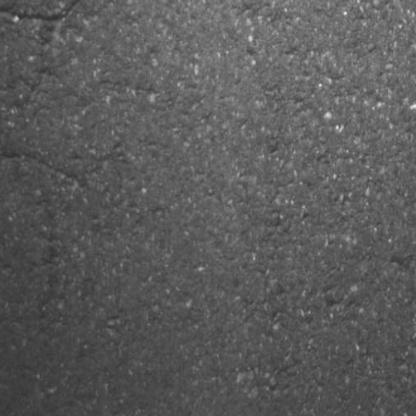Cracks: (0, 0, 94, 28)
